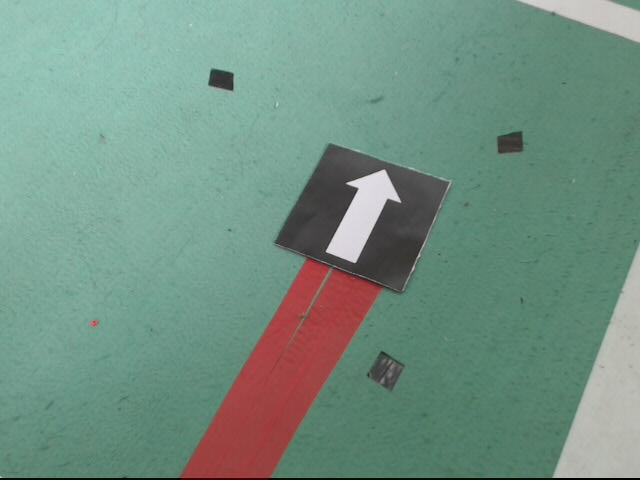straight: (281, 146, 455, 292)
